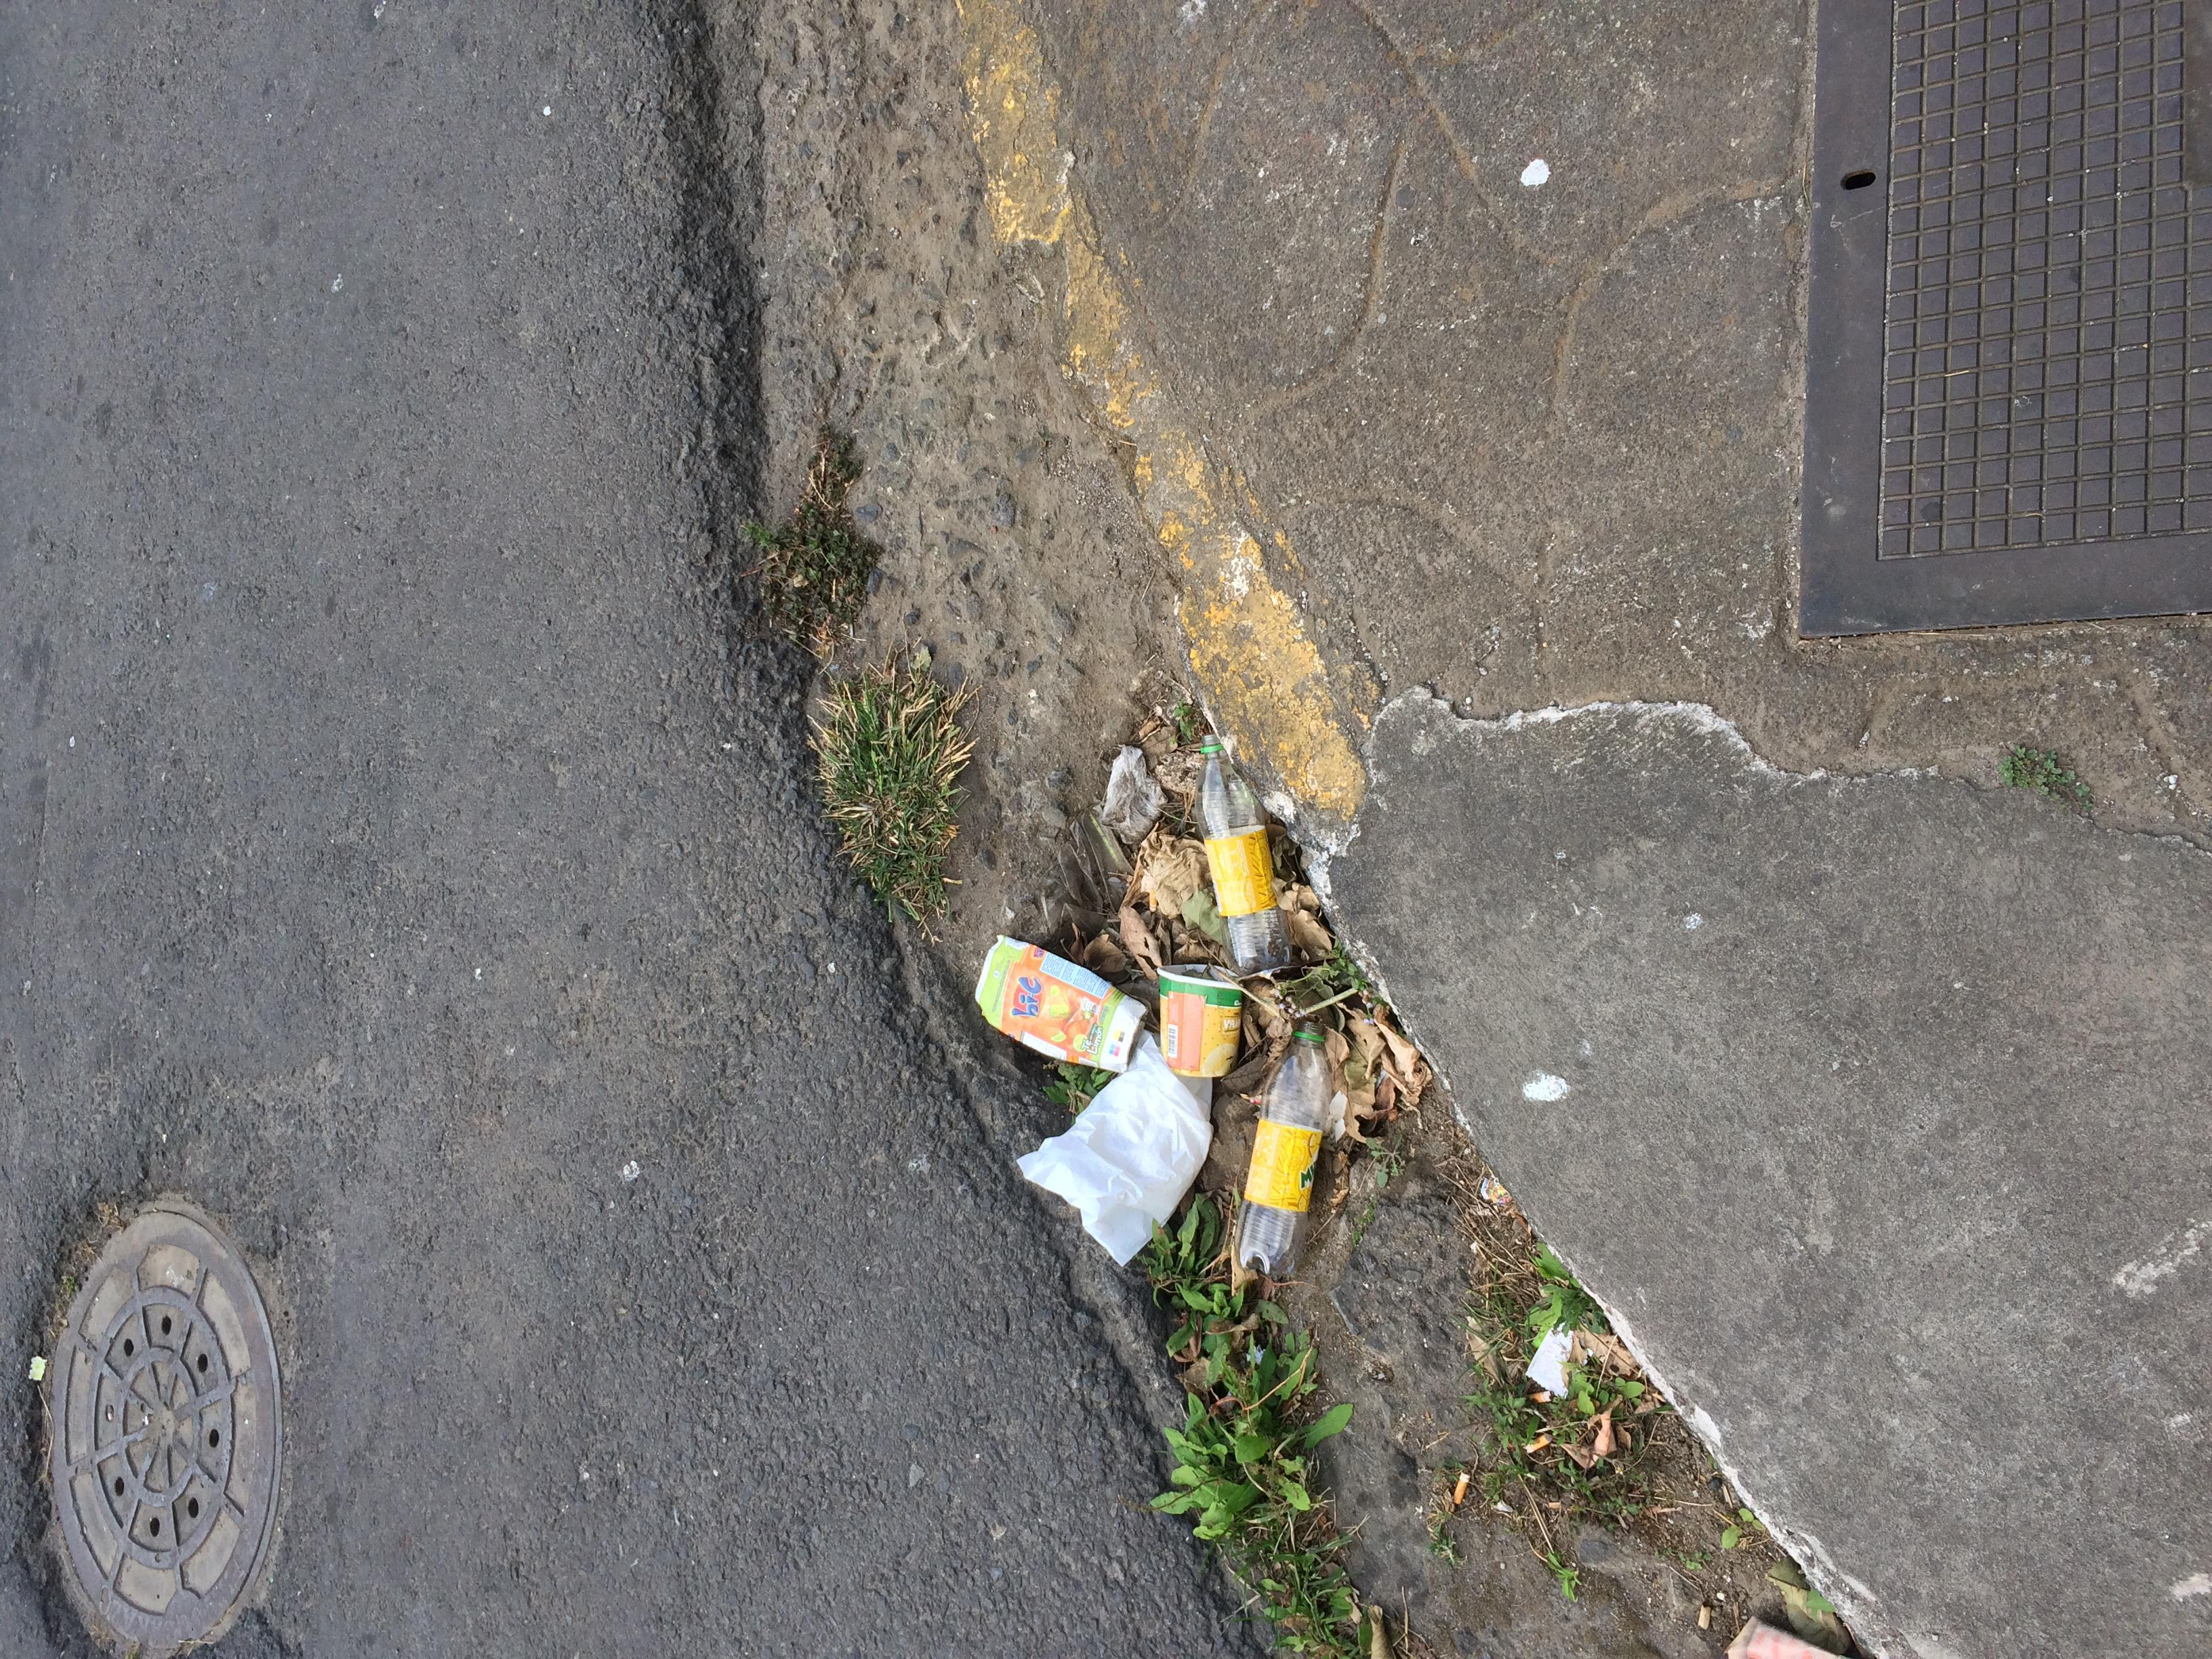plastic_bottle: (1158, 716, 1313, 1012), (1207, 997, 1350, 1297)
